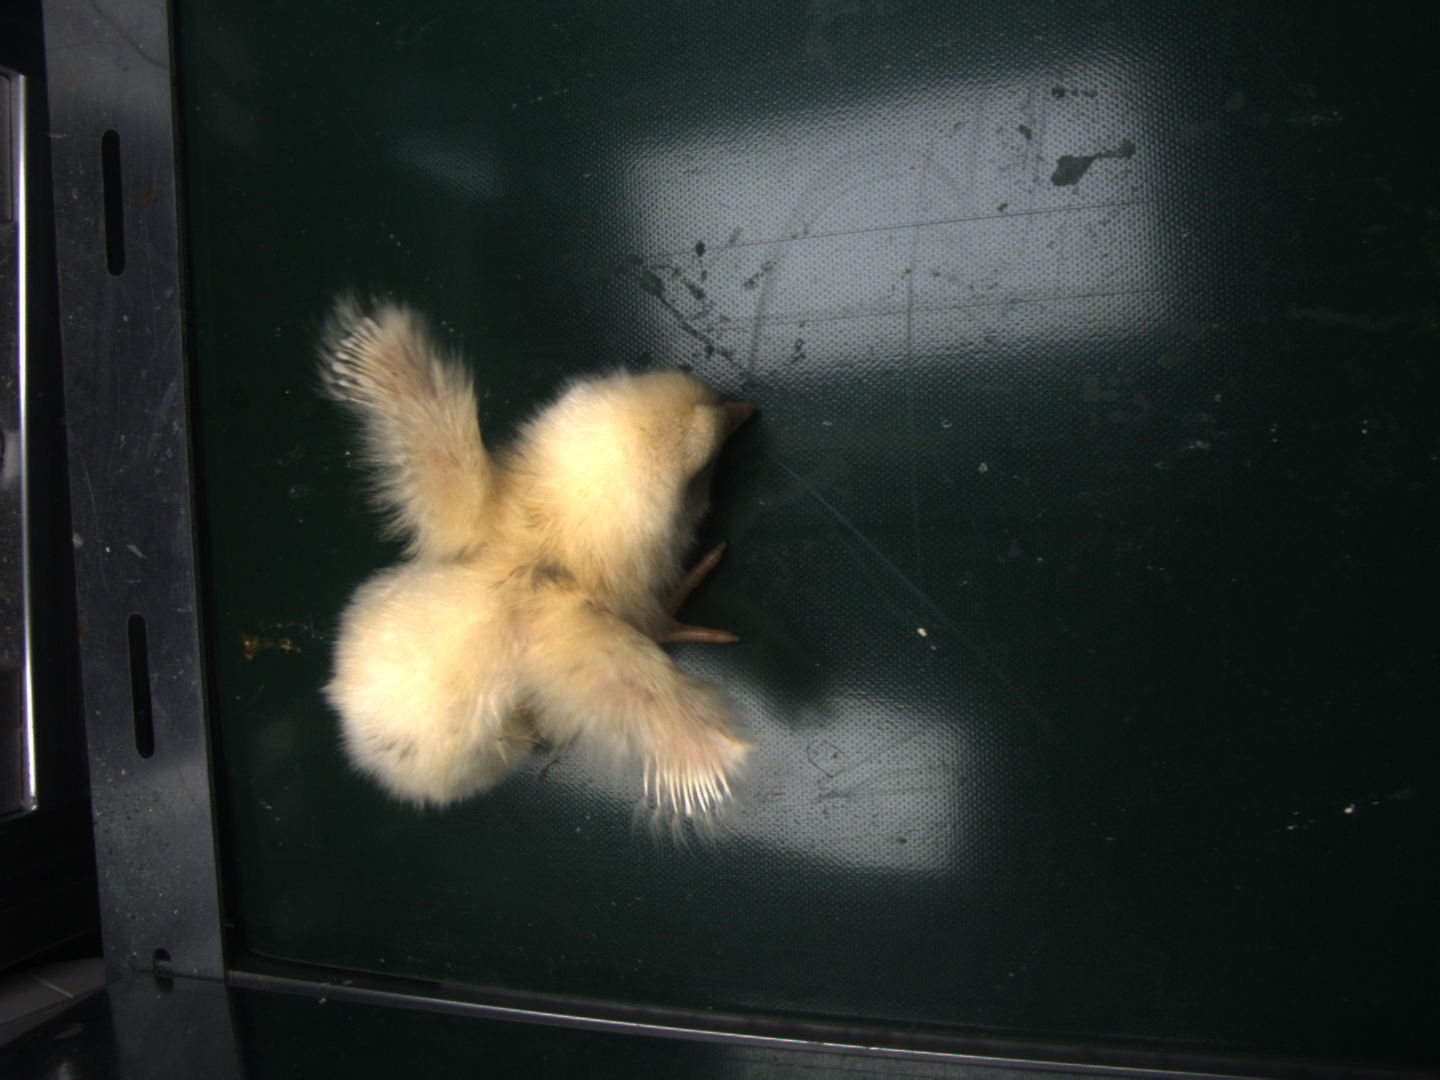male: (329, 315, 392, 403), (644, 758, 730, 811)
